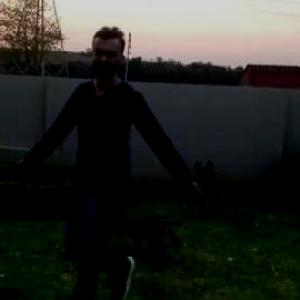land: (19, 47, 199, 286)
